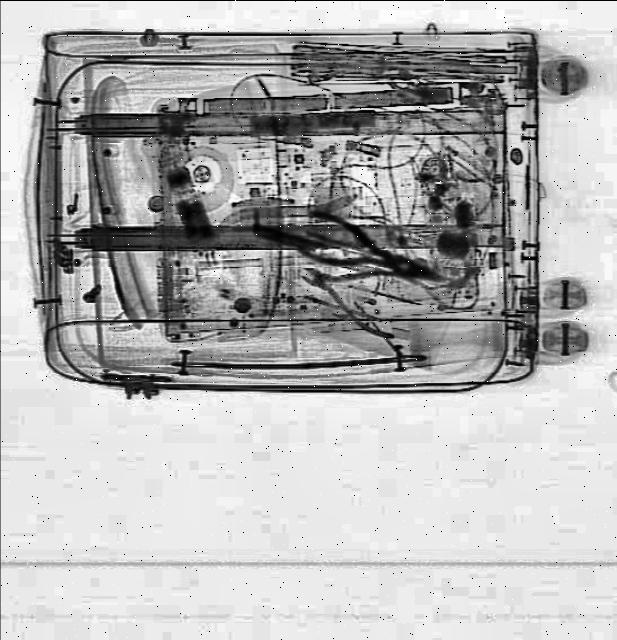Pliers: (292, 208, 448, 302), (288, 242, 418, 344)
